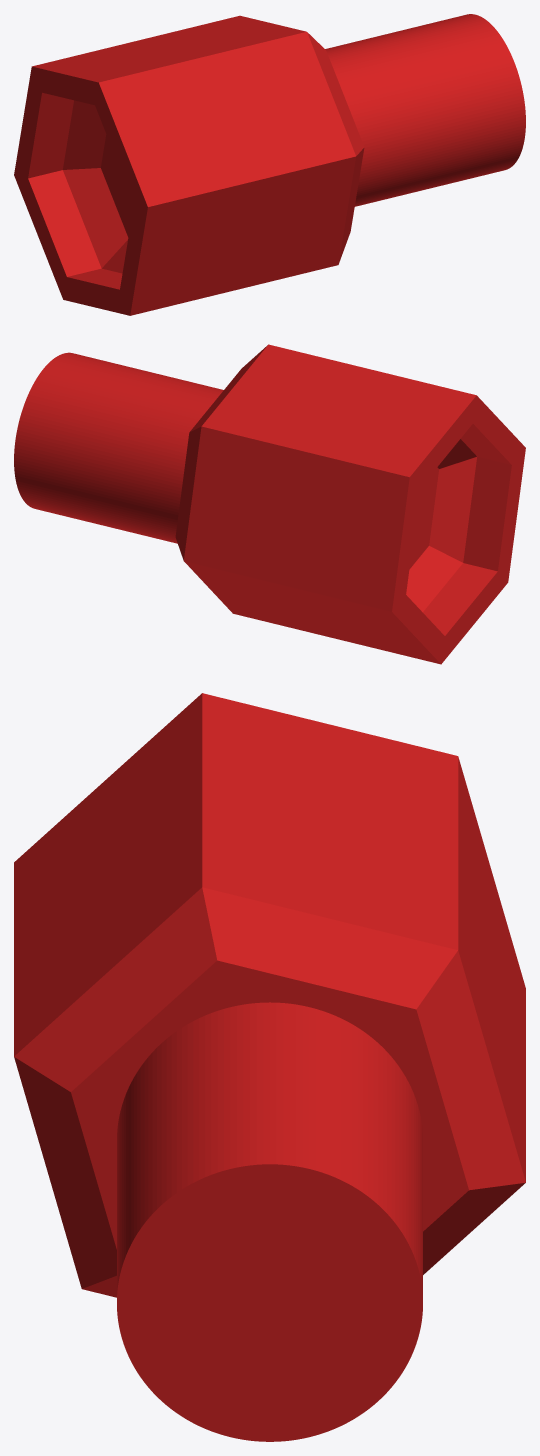
The model's file is 2_colored.obj.
The picture shows the model from 3 angles, top to bottom: view 1: azimuth 30°, elevation 25°; view 2: azimuth 150°, elevation 25°; view 3: azimuth 270°, elevation 25°; orthographic projection. The views are drawn at different scales.
Size of the model in its own units: 0.035 by 0.0201 by 0.0201.
